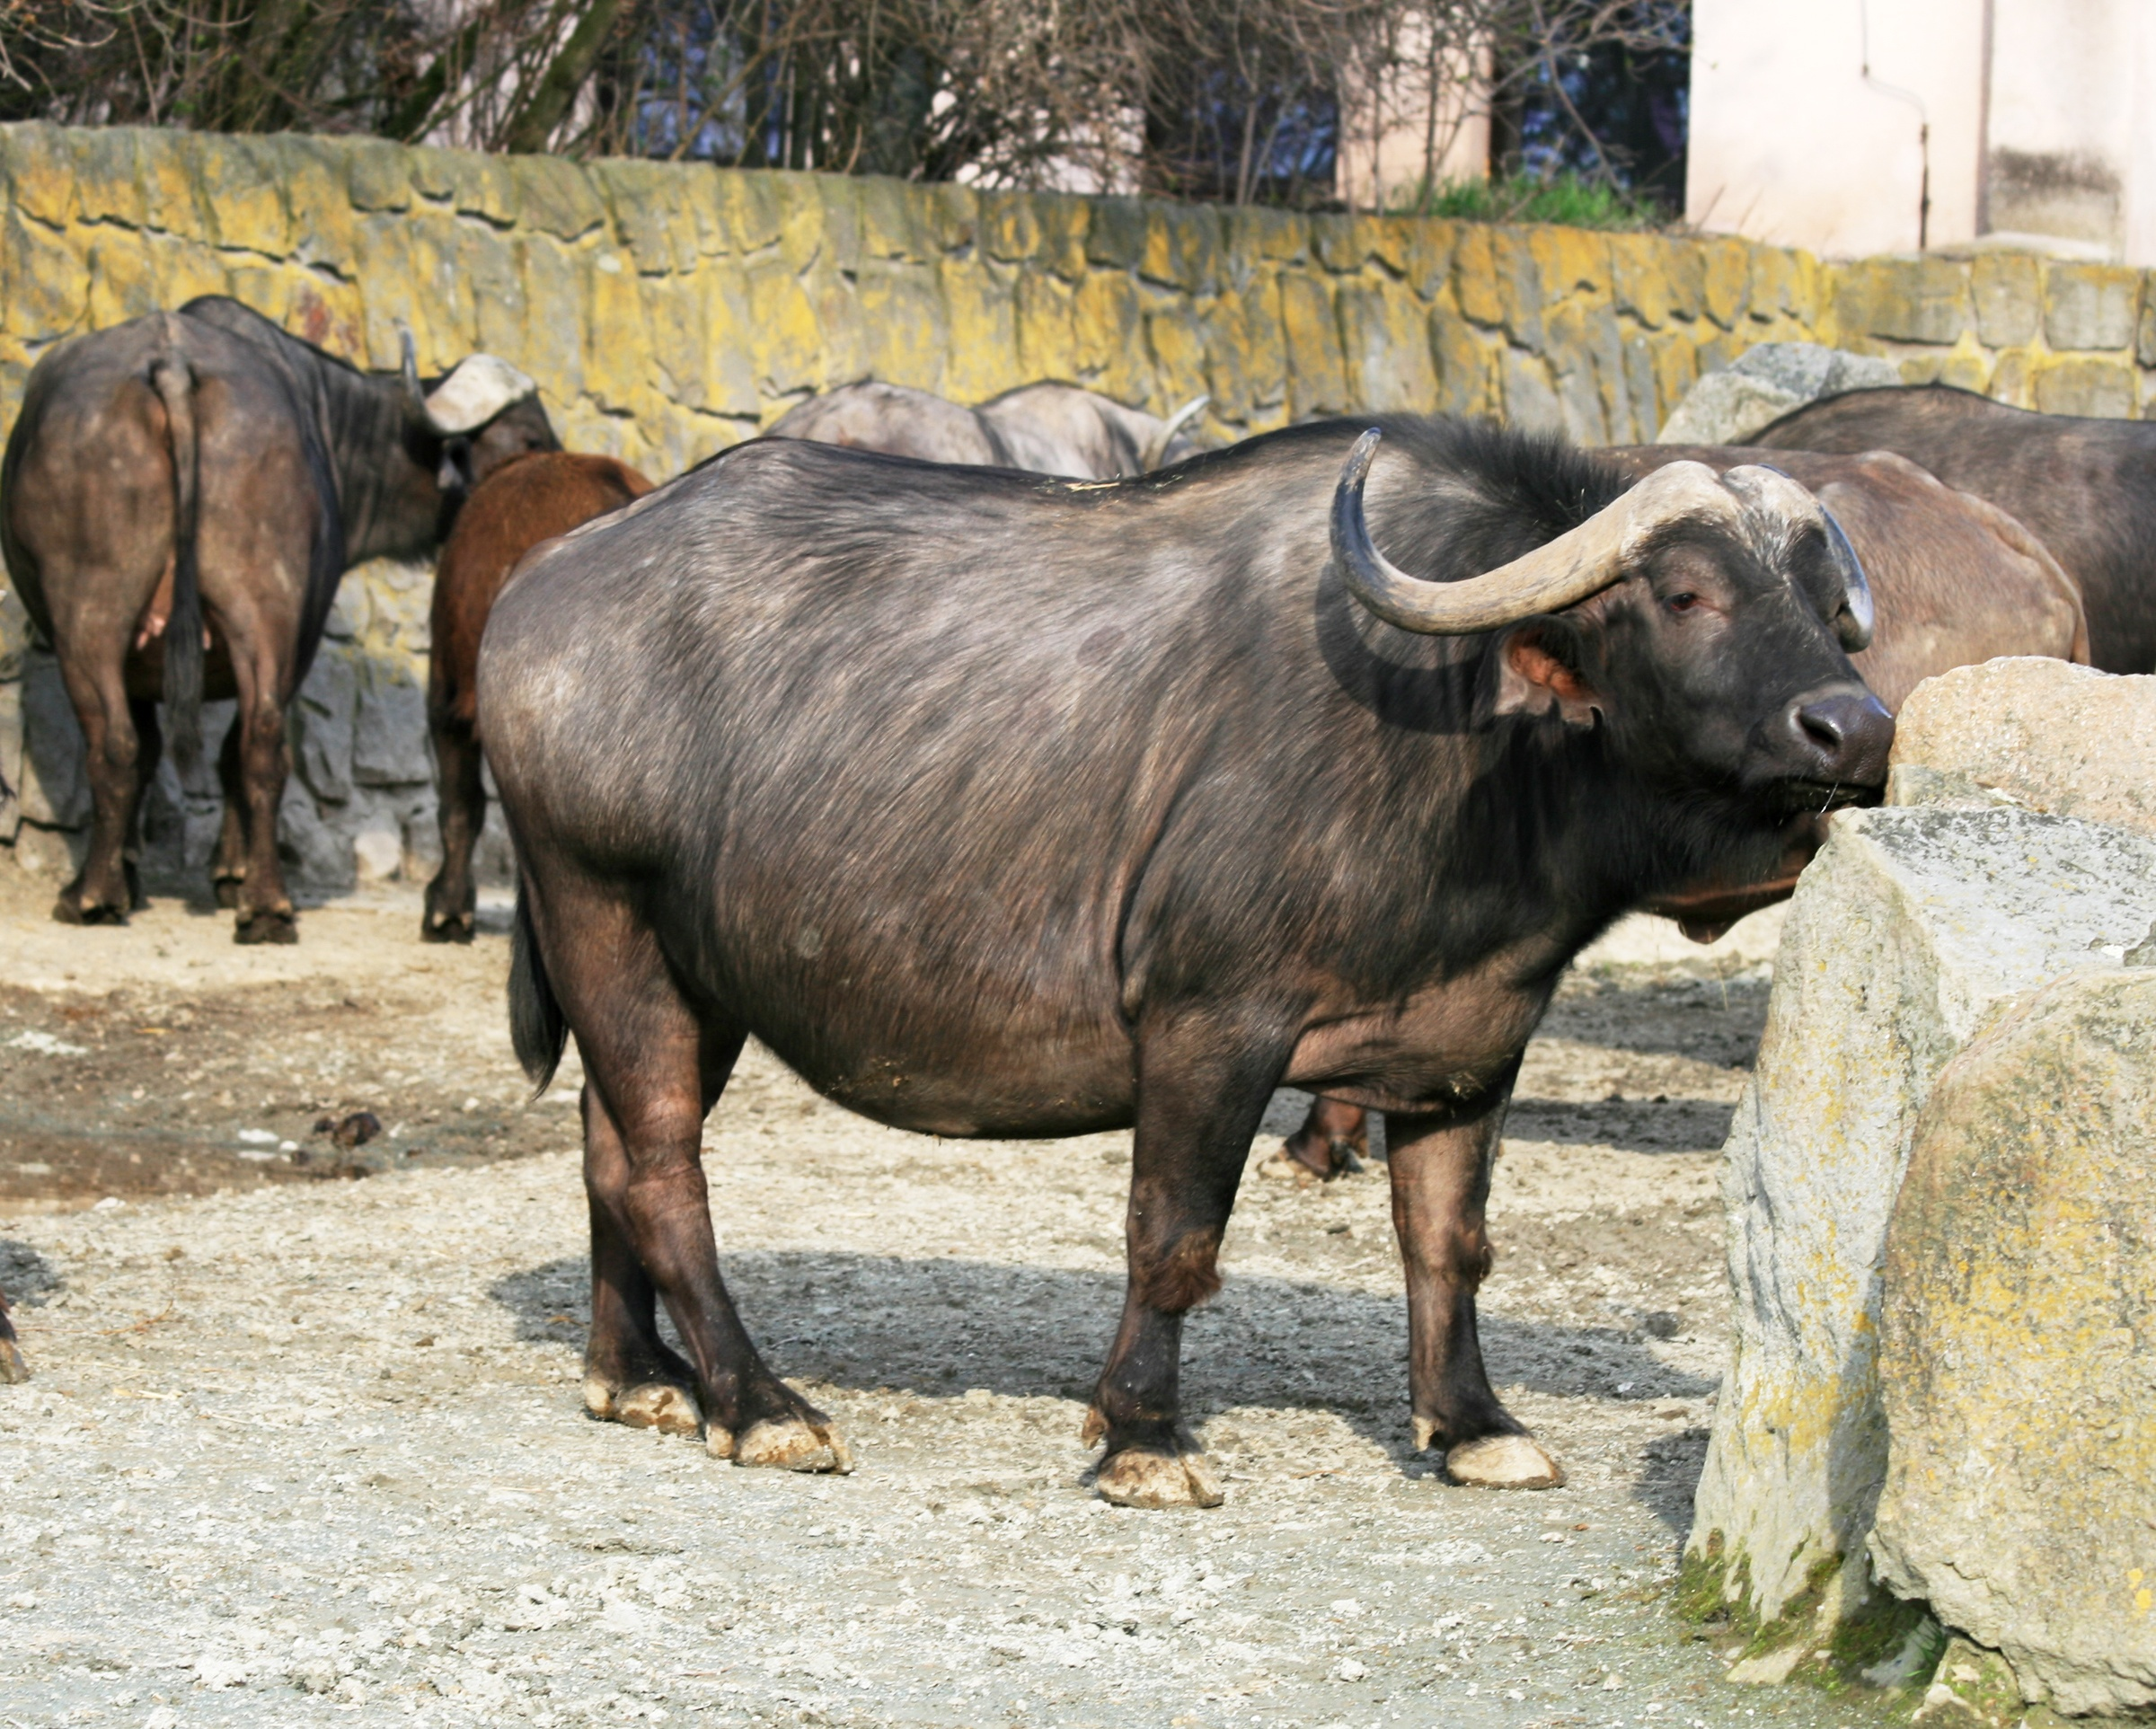buffalo: (468, 411, 1916, 1494), (14, 296, 464, 930)
